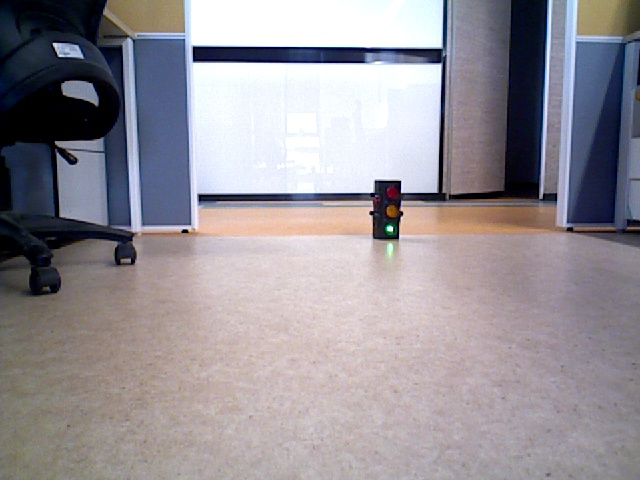green: (373, 182, 399, 236)
